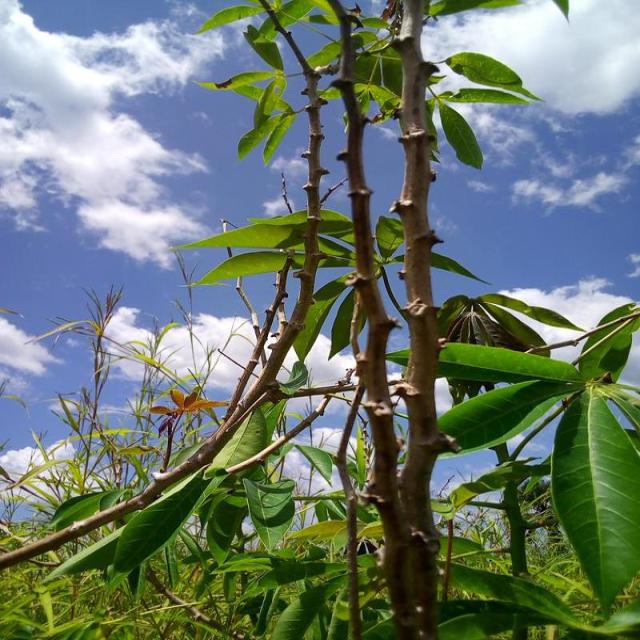cassava leaf: (550, 383, 639, 615)
